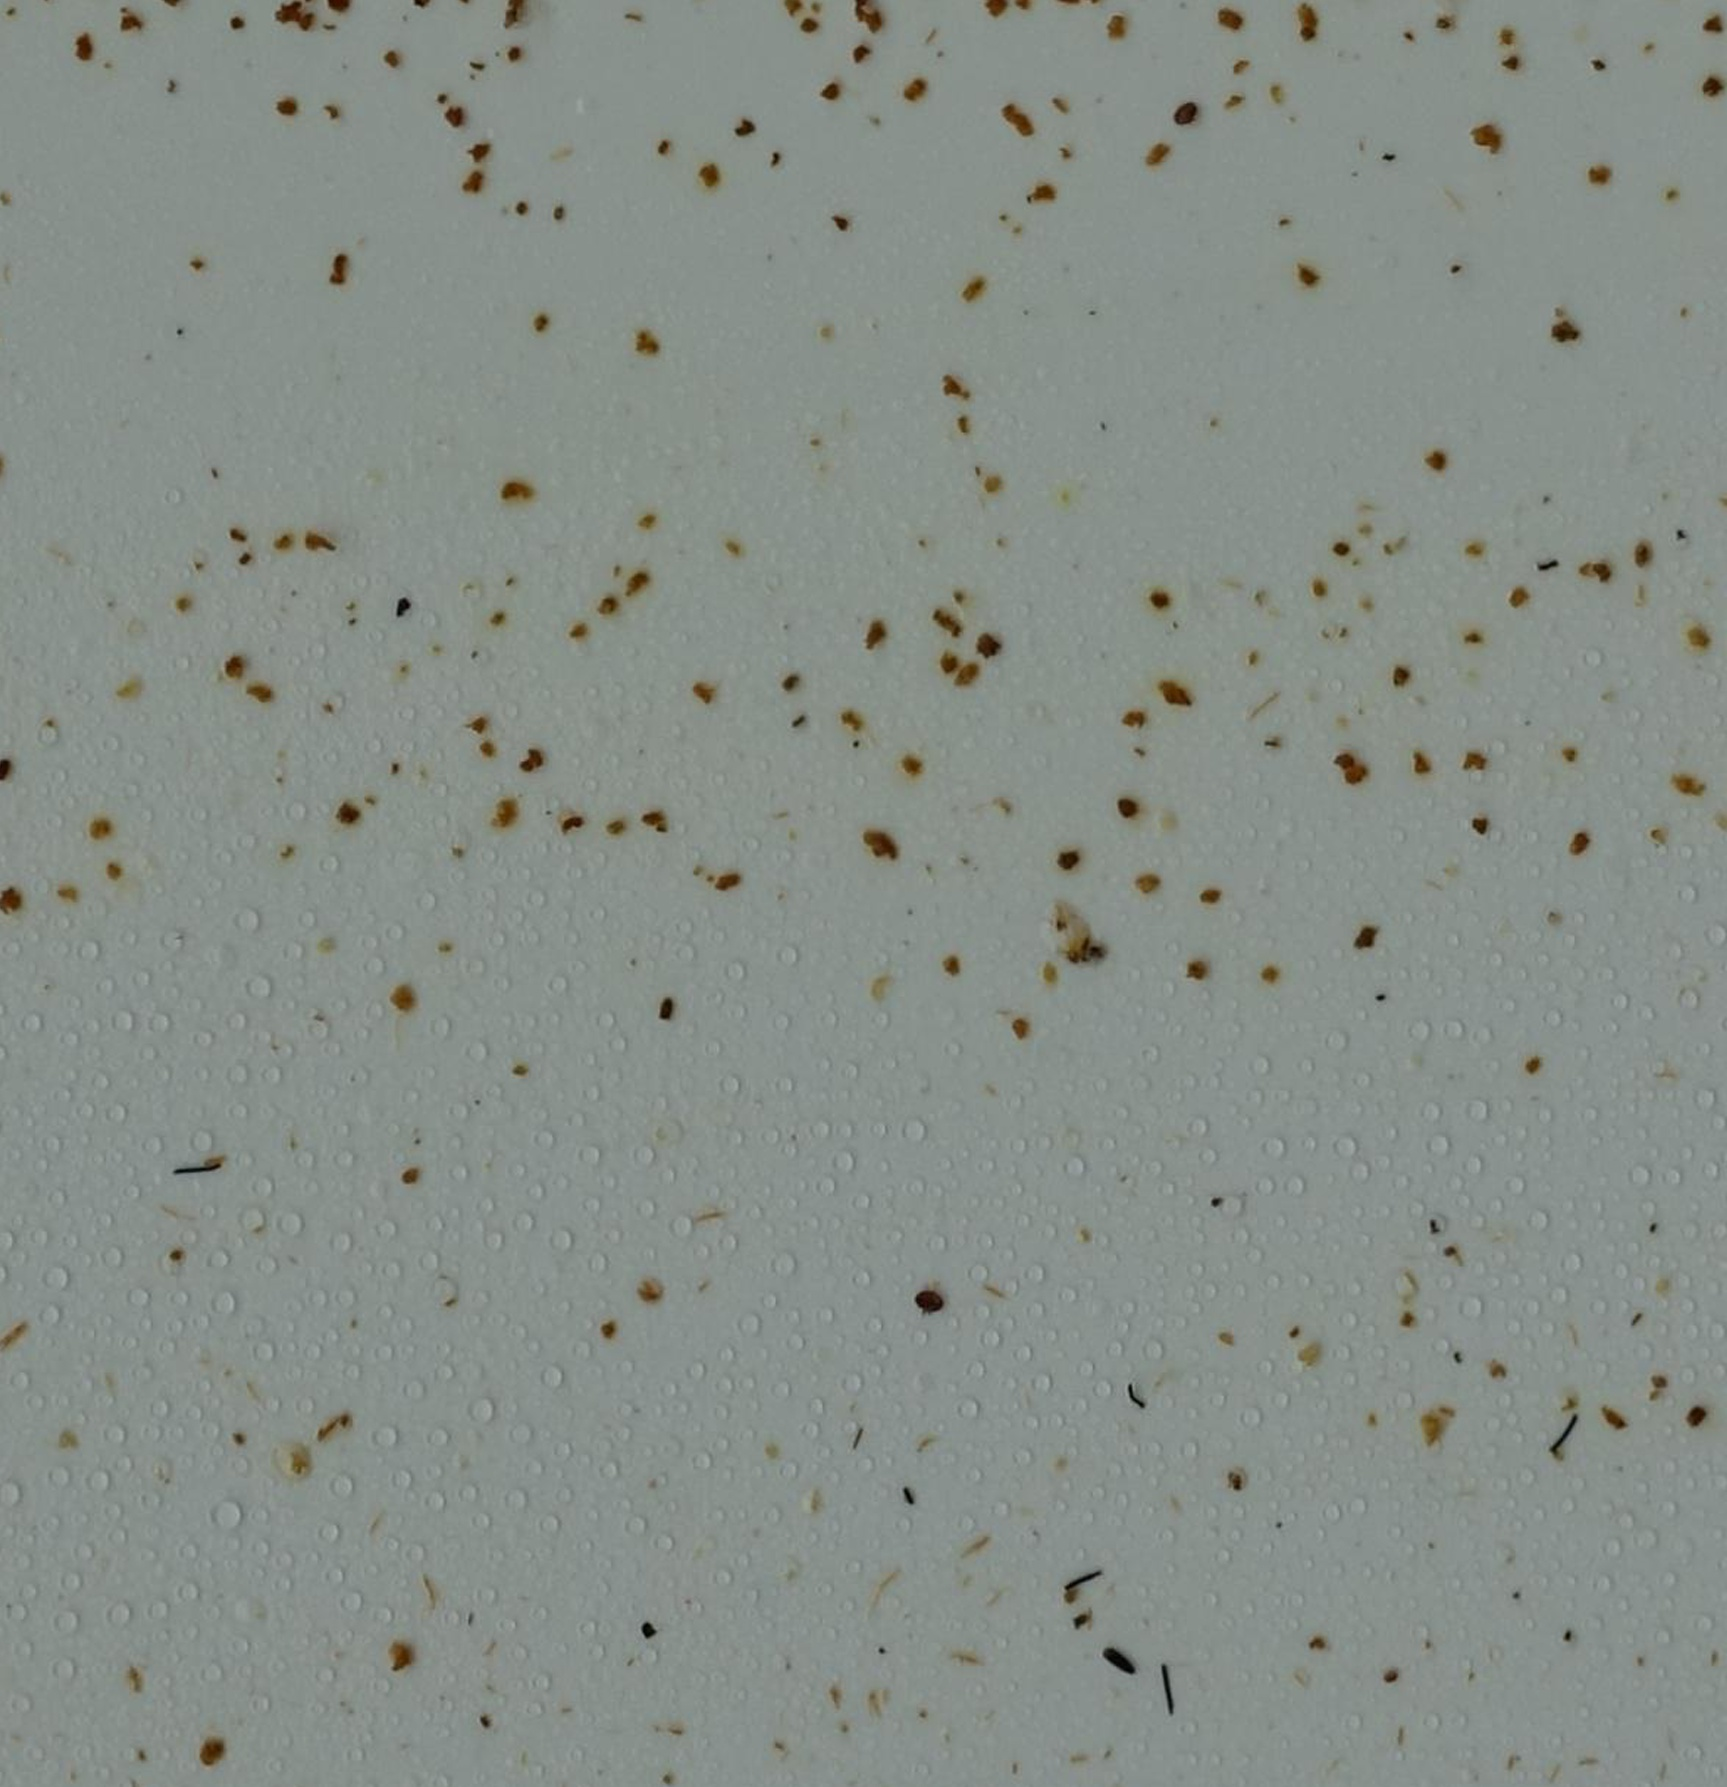Varroa: (921, 1276, 950, 1312), (1172, 101, 1200, 129)
